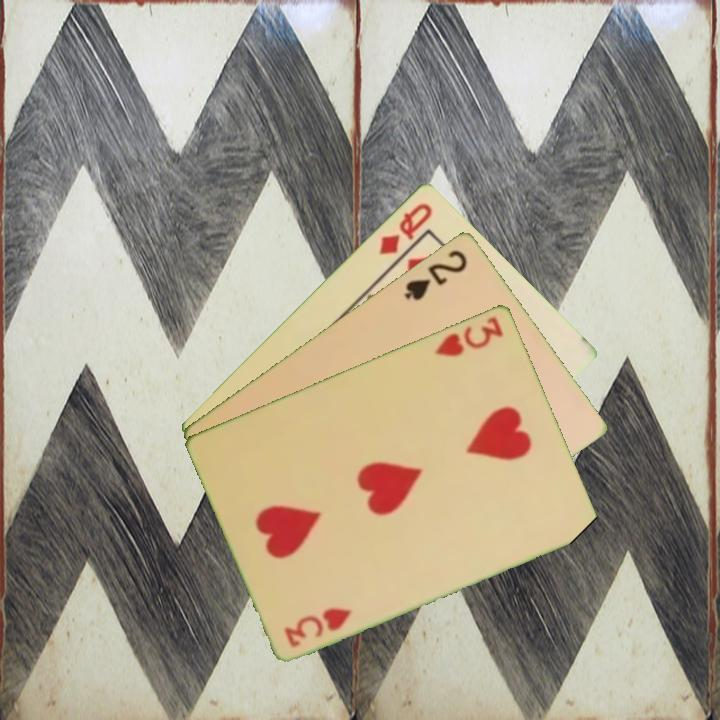2s: (400, 245, 471, 303)
3h: (430, 312, 507, 359), (281, 603, 355, 650)
Qd: (375, 199, 436, 258)
